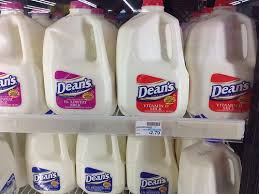milk: (119, 4, 190, 114), (46, 3, 116, 114), (192, 5, 258, 122), (1, 8, 39, 108), (179, 139, 240, 193), (77, 132, 126, 194), (26, 134, 77, 192), (127, 139, 177, 194)
